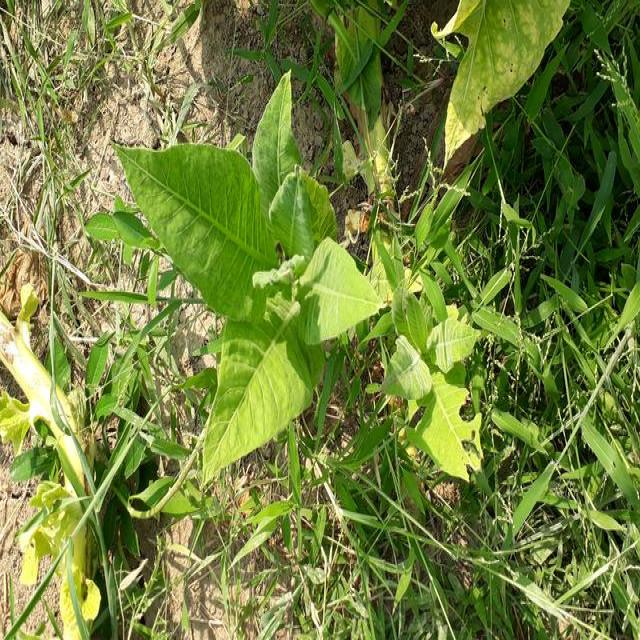crop: (110, 65, 391, 482)
